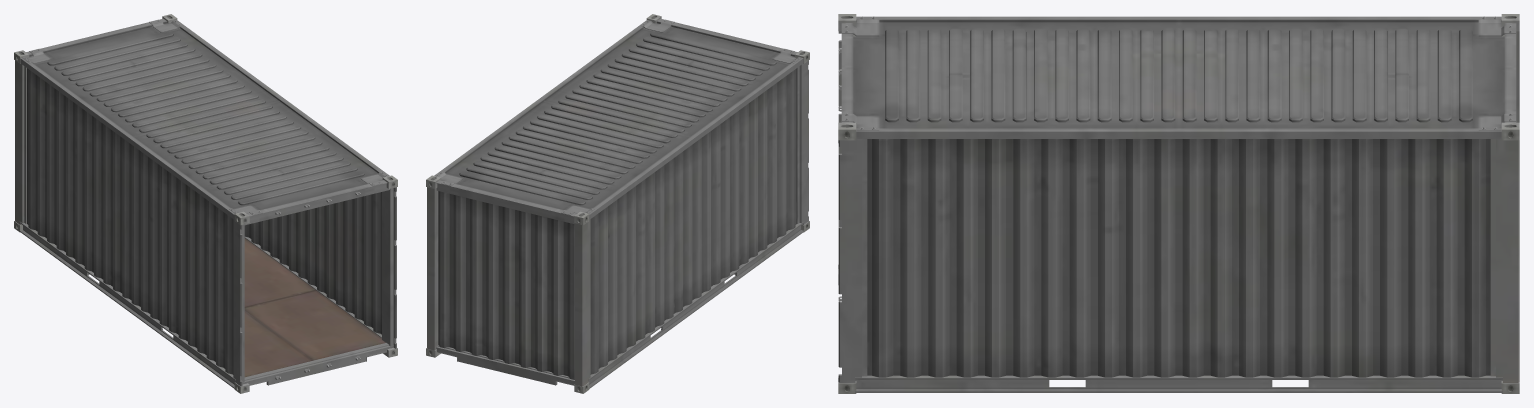
Rendered from SM_Container_05d03c.glb.
The picture shows the model from 3 angles, left to right: view 1: azimuth 30°, elevation 25°; view 2: azimuth 150°, elevation 25°; view 3: azimuth 270°, elevation 25°; orthographic projection. The views are drawn at different scales.
Size of the model in its own units: 2.46 by 2.62 by 6.12.
1 material, 1 textured.
